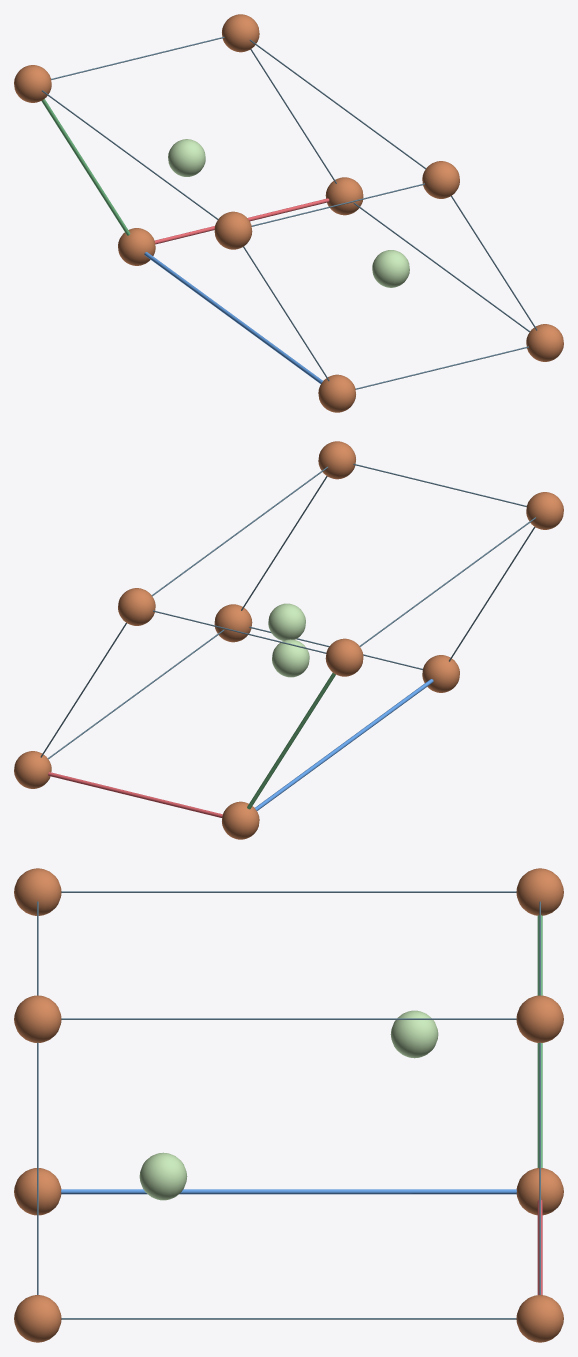
Rendered from chat-ferrous-iodide.glb.
The picture shows the model from 3 angles, top to bottom: view 1: azimuth 30°, elevation 25°; view 2: azimuth 150°, elevation 25°; view 3: azimuth 270°, elevation 25°; orthographic projection. The views are drawn at different scales.
Visible parts, largest first — view 1: Fe · Fe · 1 (×8), Ô mạng và các trục a, b, c, I · I · 1 (×2); view 2: Fe · Fe · 1 (×8), Ô mạng và các trục a, b, c, I · I · 1 (×2); view 3: Fe · Fe · 1 (×8), Ô mạng và các trục a, b, c, I · I · 1 (×2).
Part boxes in pixels (x1,y1,x2,y2): Fe · Fe · 1 (×8): [14, 14, 563, 412]; Ô mạng và các trục a, b, c: [41, 36, 537, 389]; I · I · 1 (×2): [168, 139, 409, 287]; Fe · Fe · 1 (×8): [14, 441, 563, 839]; Ô mạng và các trục a, b, c: [40, 463, 535, 817]; I · I · 1 (×2): [268, 603, 309, 677]; Fe · Fe · 1 (×8): [14, 868, 563, 1342]; Ô mạng và các trục a, b, c: [37, 891, 542, 1319]; I · I · 1 (×2): [139, 1010, 438, 1200].
Bounding box in the file's own units: 6.7 × 4.14 × 7.39.
